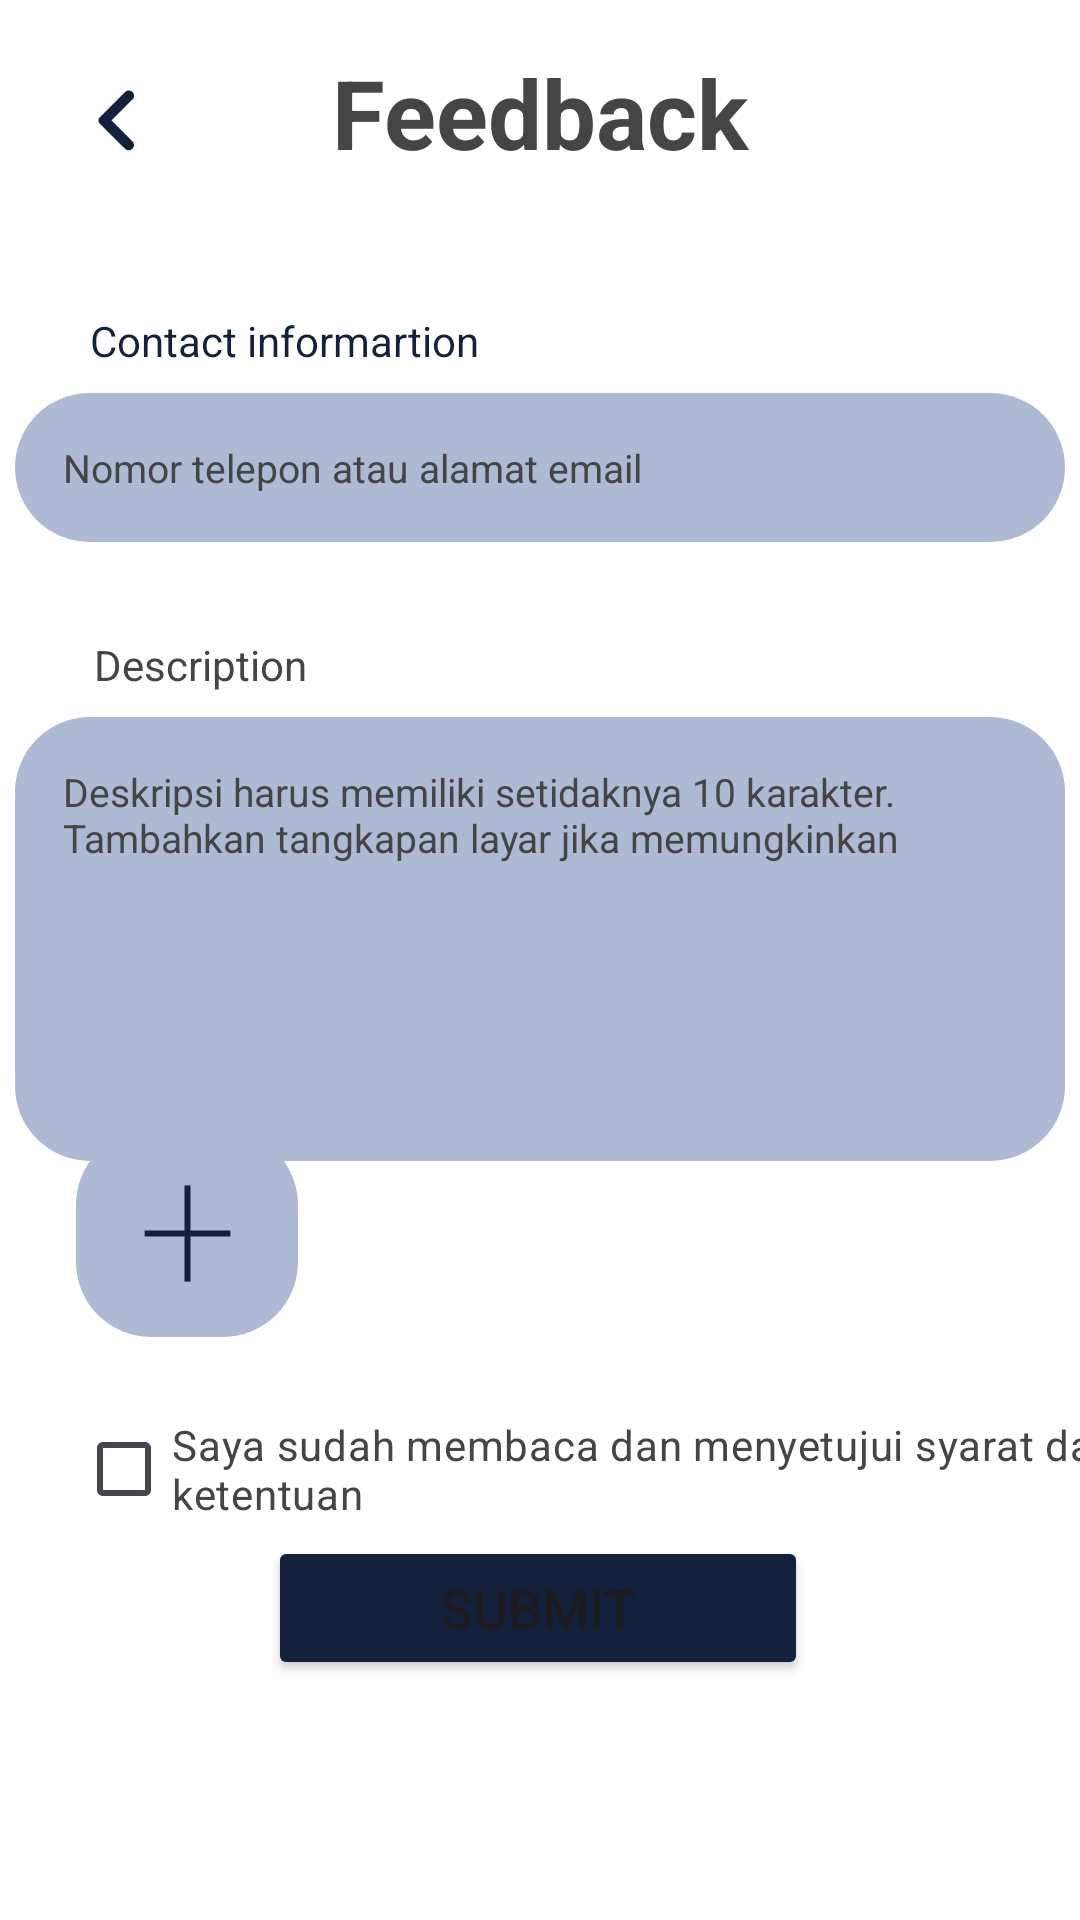

Screen size 1080px×1920px. Icon name, then its box in pixels as (x1, y1, x2, y2):
custom plus: (76, 1130, 298, 1337)
